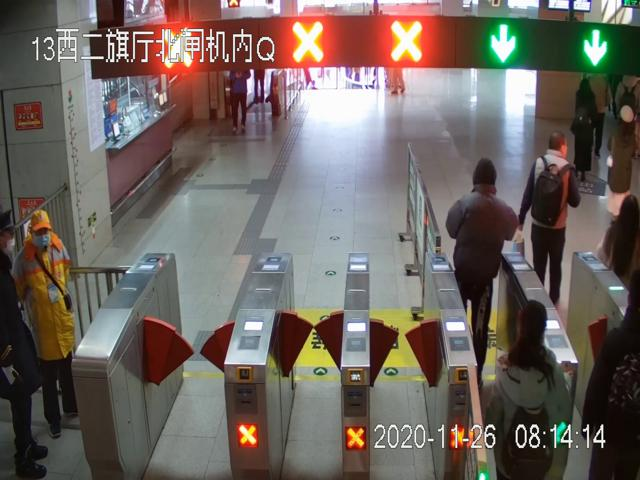person: (12, 208, 85, 437), (446, 158, 518, 381)
